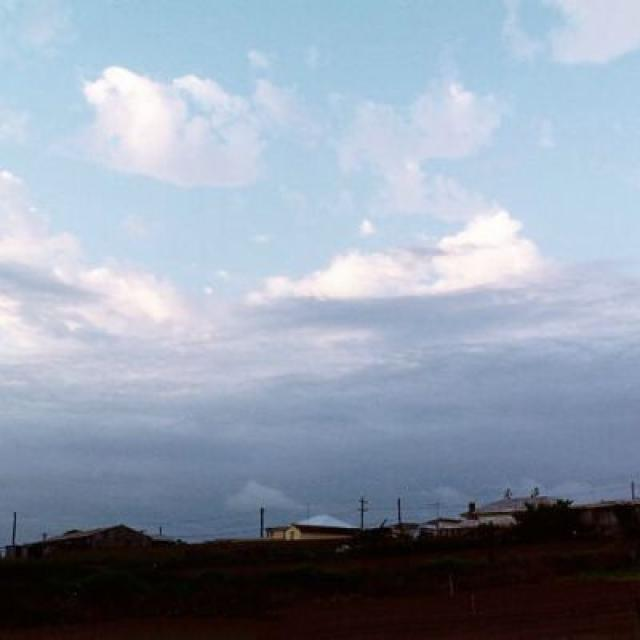Sc: (1, 167, 640, 446)
